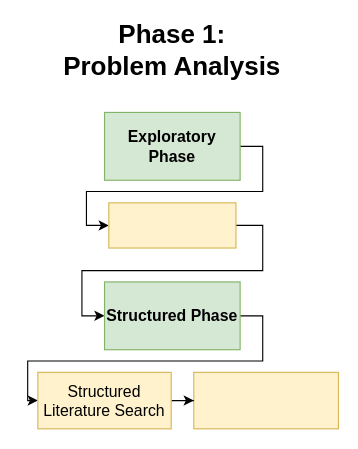
Image size: 358x449. Some labels were removed from this diagram. Each missing label, with the centre of its shape:
"Semi-Structured Interview" goes at point (265, 400).
"Unstructured Literature Search" goes at point (172, 225).
